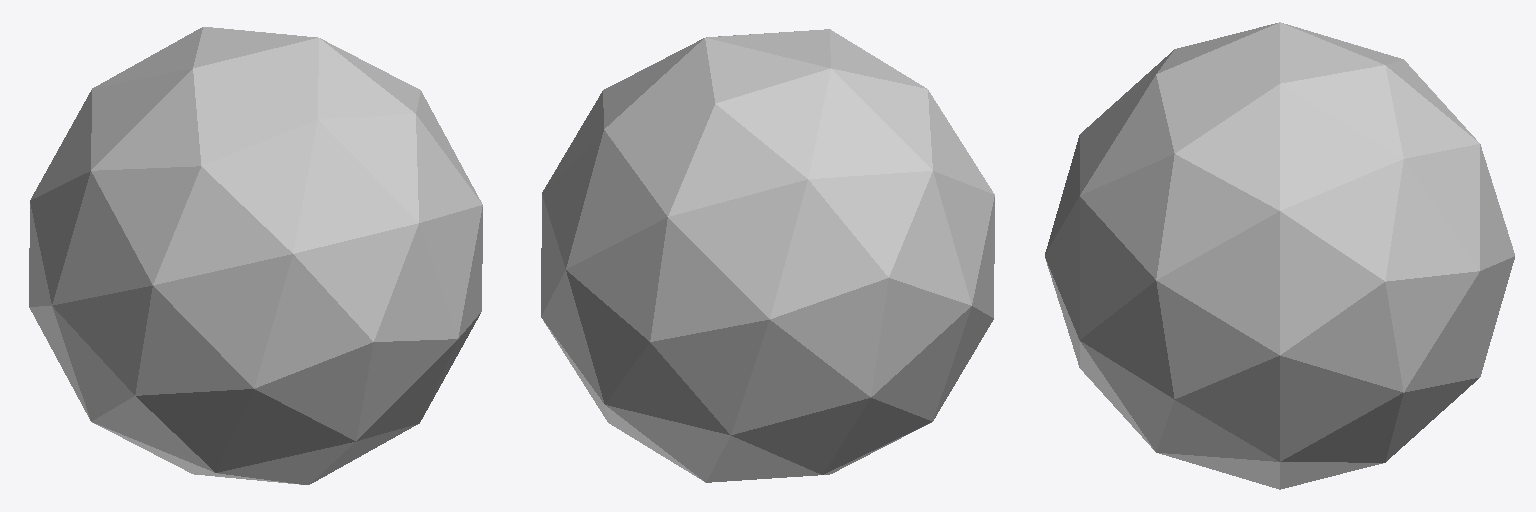
Rendered from ico-subdiv.obj.
3 renders of one model, left to right at view 1: azimuth 30°, elevation 25°; view 2: azimuth 150°, elevation 25°; view 3: azimuth 270°, elevation 25°, orthographic.
Visible parts, largest first — view 1: Icosphere; view 2: Icosphere; view 3: Icosphere.
Boxes of the visible parts, <box> form: Icosphere: <box>29,27,482,484</box>; Icosphere: <box>541,29,994,482</box>; Icosphere: <box>1045,22,1514,489</box>.
Size of the model in its own units: 2 by 1.9 by 2.